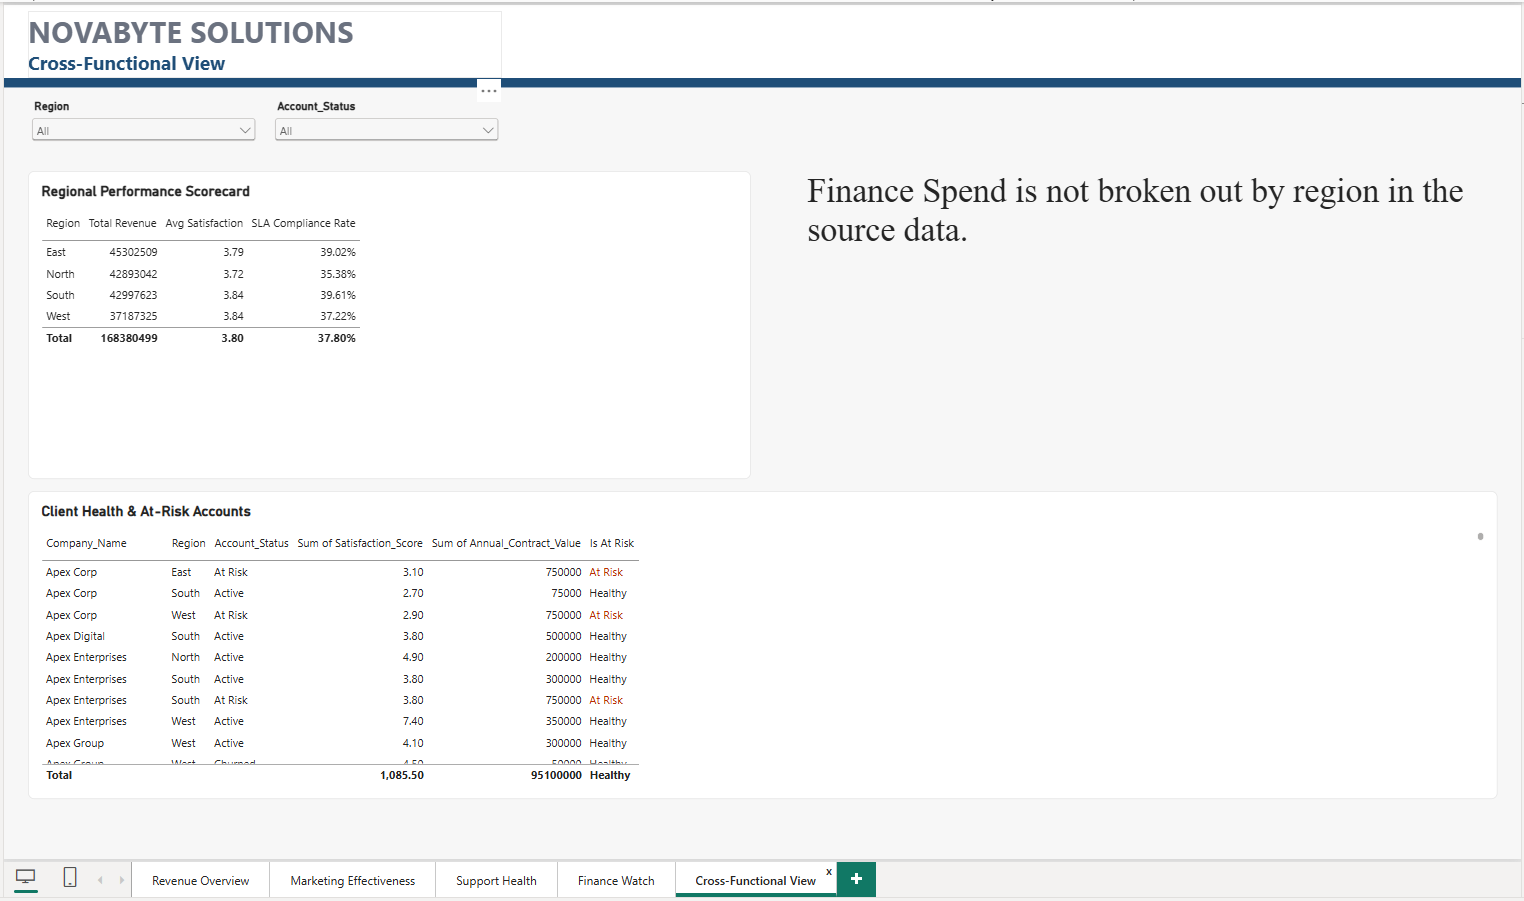

This screenshot's page, from the dashboard's own definition file:
{"tool":"powerbi","page":{"name":"Cross-Functional View","canvas":[1920,1080],"ordinal":4},"visuals":[{"type":"tableEx","title":"Regional Performance Scorecard","fields":{"Values":["Clients.Region","Measures_Table.Total Revenue","Measures_Table.Avg Satisfaction","Measures_Table.SLA Compliance Rate"]},"box":[30,210,915,390],"z":0},{"type":"textbox","box":[975,210,915,120],"z":1000},{"type":"tableEx","title":"Client Health & At-Risk Accounts","fields":{"Values":["Clients.Company_Name","Clients.Region","Clients.Account_Status","Sum(Clients.Satisfaction_Score)","Sum(Clients.Annual_Contract_Value)","Measures_Table.Is At Risk"]},"box":[30,615,1860,390],"z":2000},{"type":"slicer","fields":{"Values":["Clients.Region"]},"box":[30,120,293,68],"z":3000},{"type":"slicer","fields":{"Values":["Clients.Account_Status"]},"box":[338,120,293,68],"z":4000},{"type":"shape","box":[0,0,1920,105],"z":5000},{"type":"shape","box":[0,93,1920,12],"z":6000},{"type":"textbox","box":[30,8,600,85],"z":7000}]}

Visuals, with their boxes on the page's 1920x1080 design canvas (x1, y1, x2, y2). These are canvas units, not pixel positions in the 1524x901 screenshot, which may show the page scaled, cropped or inside an application window:
"Regional Performance Scorecard" tableEx: pyautogui.locateOnScreen(30, 210, 945, 600)
textbox: pyautogui.locateOnScreen(975, 210, 1890, 330)
"Client Health & At-Risk Accounts" tableEx: pyautogui.locateOnScreen(30, 615, 1890, 1005)
slicer - Clients.Region: pyautogui.locateOnScreen(30, 120, 323, 188)
slicer - Clients.Account_Status: pyautogui.locateOnScreen(338, 120, 631, 188)
shape: pyautogui.locateOnScreen(0, 0, 1920, 105)
shape: pyautogui.locateOnScreen(0, 93, 1920, 105)
textbox: pyautogui.locateOnScreen(30, 8, 630, 93)
